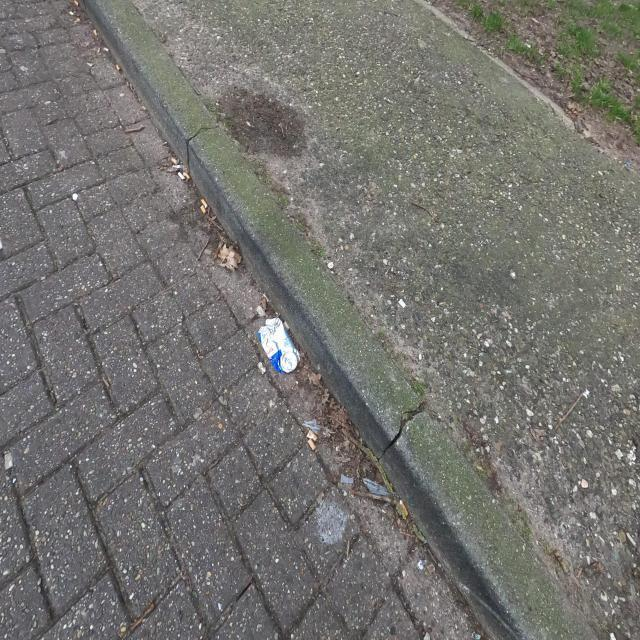Can-Metal: (257, 317, 301, 374)
